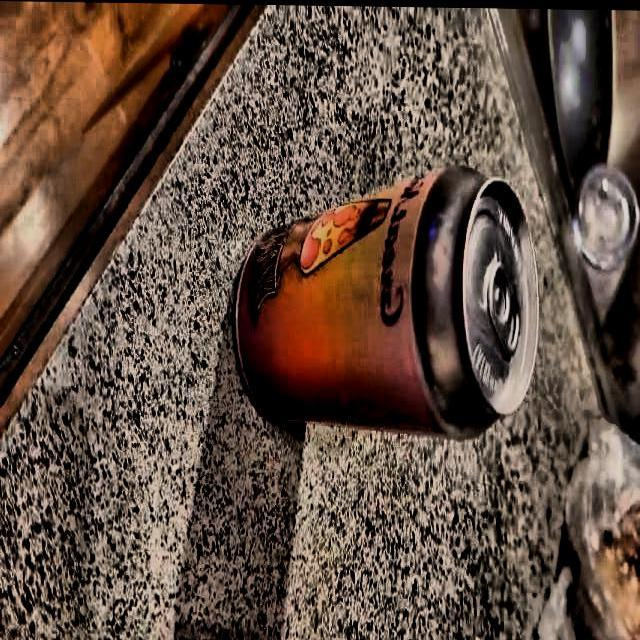Aluminum Can: (219, 150, 550, 447)
